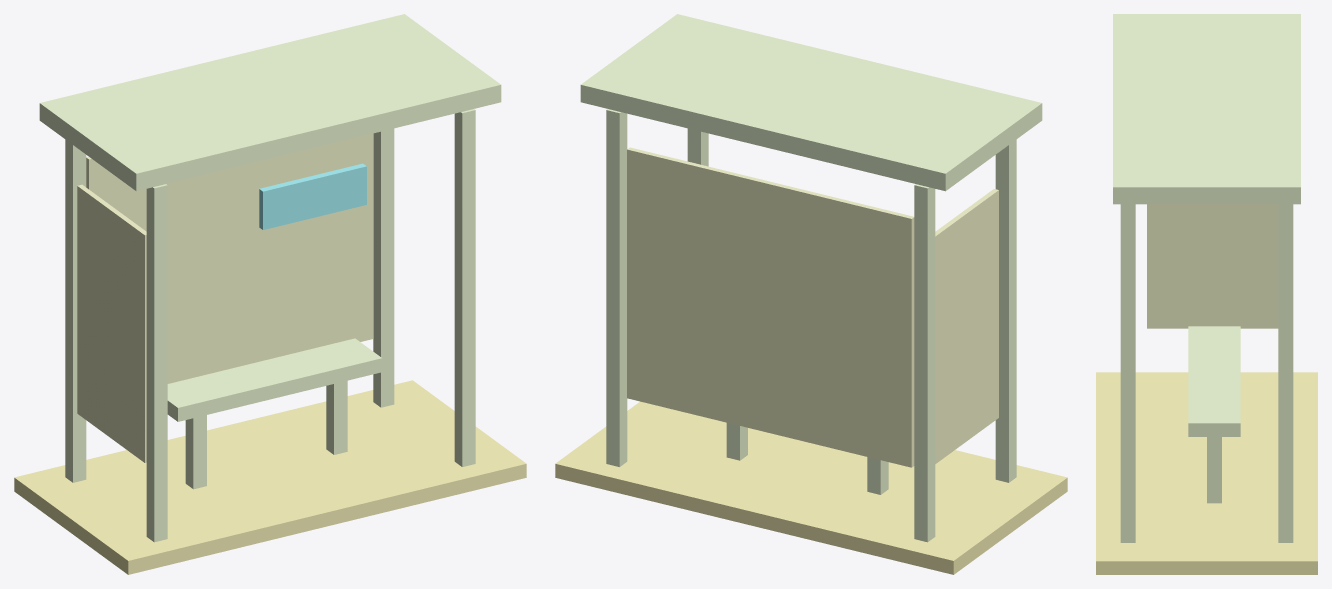
Rendered from furniture_bus_stop_shelter.glb.
3 renders of one model, left to right at view 1: azimuth 30°, elevation 25°; view 2: azimuth 150°, elevation 25°; view 3: azimuth 270°, elevation 25°, orthographic. The views are drawn at different scales.
Visible parts, largest first — view 1: pad, roof, glass_back, glass_side, seat, post_front_right, post_front_left, post_back_right, post_back_left, route_band, bench_support_right, bench_support_left; view 2: glass_back, roof, pad, glass_side, post_back_left, post_back_right, post_front_left, bench_support_right, bench_support_left, post_front_right; view 3: pad, roof, glass_side, seat, post_front_right, post_back_right, bench_support_right.
Part boxes in pixels (<box>): pad: <box>14,380,526,574</box>; roof: <box>39,14,501,191</box>; glass_back: <box>86,133,373,383</box>; glass_side: <box>77,184,146,462</box>; seat: <box>167,338,382,421</box>; post_front_right: <box>454,109,475,466</box>; post_front_left: <box>146,184,167,542</box>; post_back_right: <box>373,128,394,407</box>; post_back_left: <box>65,139,86,482</box>; route_band: <box>259,163,366,229</box>; bench_support_right: <box>326,380,347,454</box>; bench_support_left: <box>185,415,206,489</box>; glass_back: <box>627,147,914,467</box>; roof: <box>580,14,1042,191</box>; pad: <box>555,401,1067,574</box>; glass_side: <box>935,189,998,463</box>; post_back_left: <box>914,184,935,542</box>; post_back_right: <box>606,109,627,466</box>; post_front_left: <box>995,139,1016,482</box>; bench_support_right: <box>726,422,747,460</box>; bench_support_left: <box>867,457,888,494</box>; post_front_right: <box>687,128,708,166</box>; pad: <box>1096,372,1317,574</box>; roof: <box>1113,14,1300,204</box>; glass_side: <box>1147,204,1278,328</box>; seat: <box>1188,326,1240,436</box>; post_front_right: <box>1120,204,1135,542</box>; post_back_right: <box>1278,204,1293,542</box>; bench_support_right: <box>1207,437,1221,503</box>.
Bounding box in the file's own units: 2.38 × 2.23 × 1.18.
